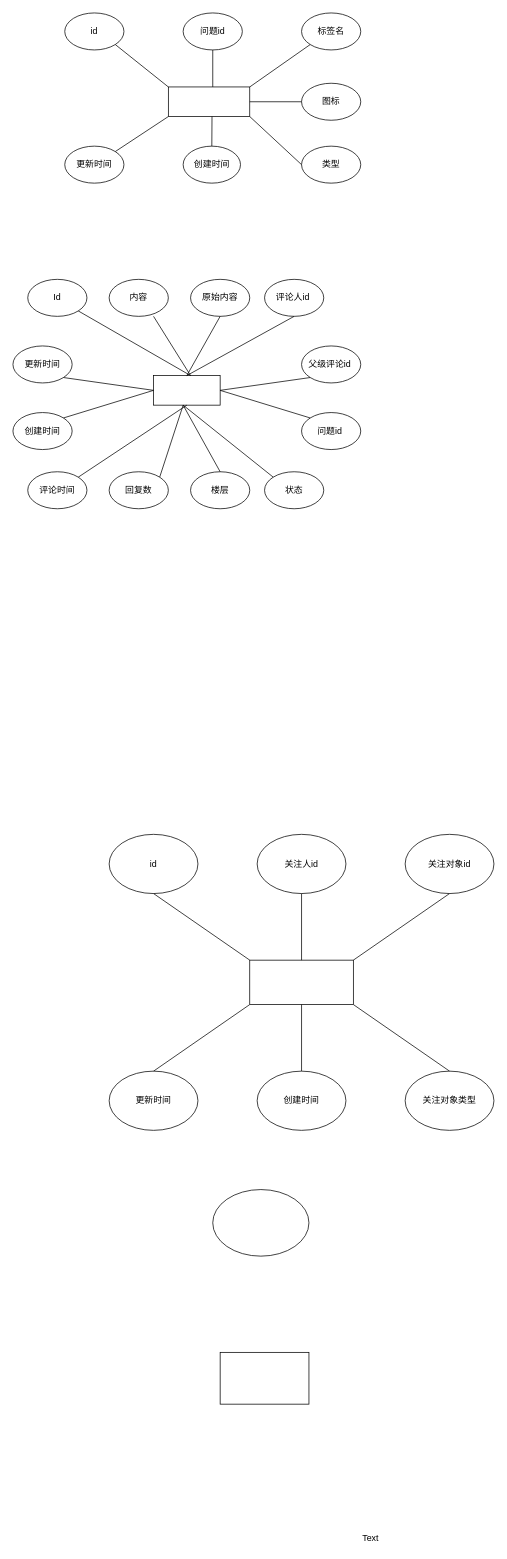
Some shapes in this 507 by 1559 pixel diagram are drawn without their labels. The shapes that lost their labels are listed below. From the top down, each one's centre as x and y in pixels, then its label:
At point (209, 101): "管理员标签".
At point (186, 390): "评论".
At point (301, 982): "关注".
At point (264, 1378): "组别".
